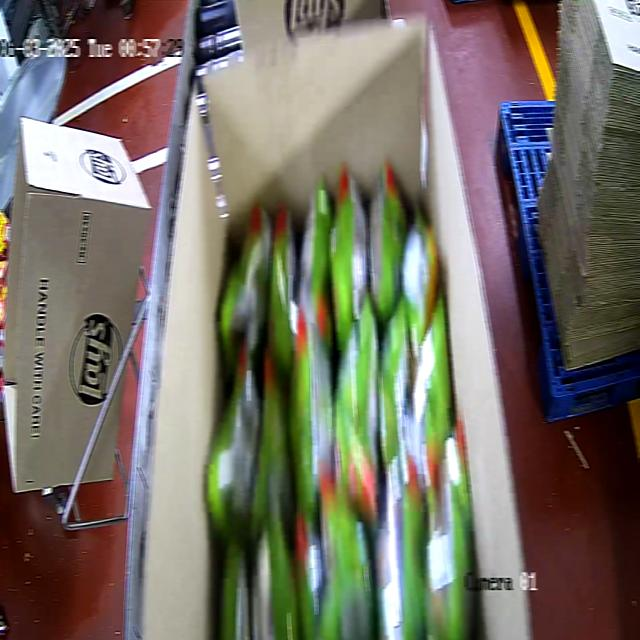YOGURT_HERB: (202, 158, 480, 637)
